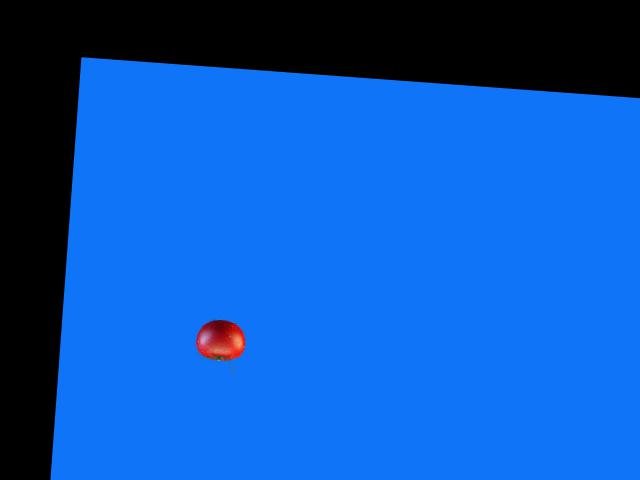tomato: (194, 317, 246, 361)
